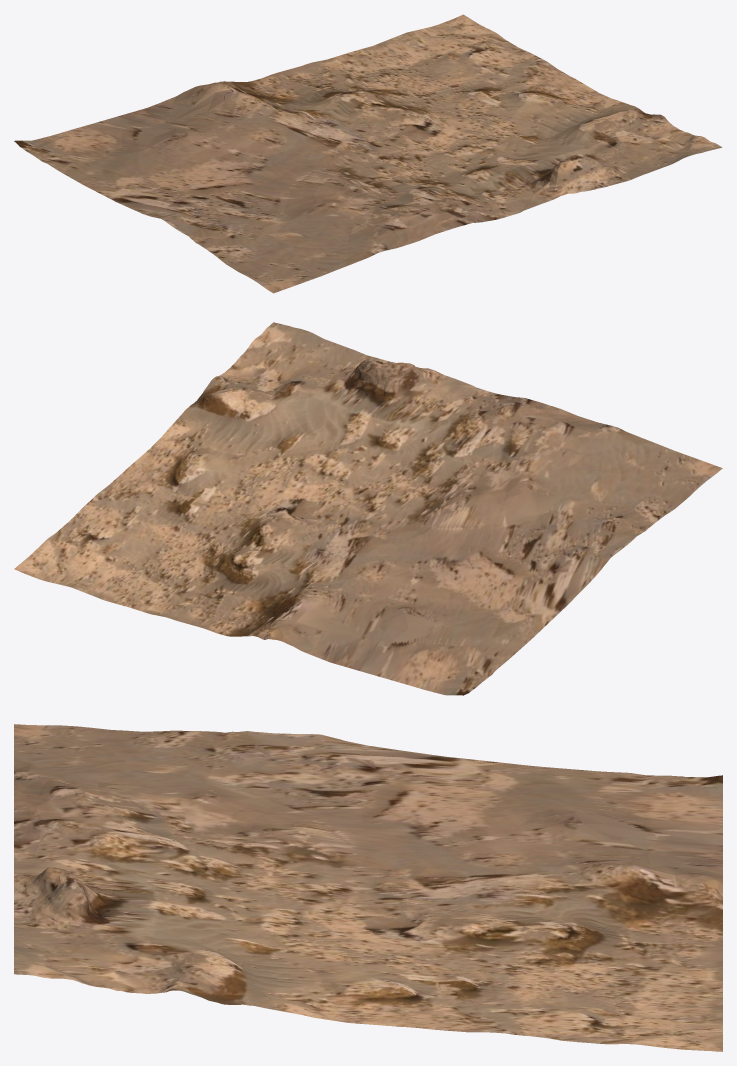
3 views of the same model, one above another, from view 1: azimuth 30°, elevation 25°; view 2: azimuth 150°, elevation 25°; view 3: azimuth 270°, elevation 25° (orthographic). The views are drawn at different scales.
Size of the model in its own units: 4.18 by 0.7529 by 4.18.
2 materials, 2 textured.
